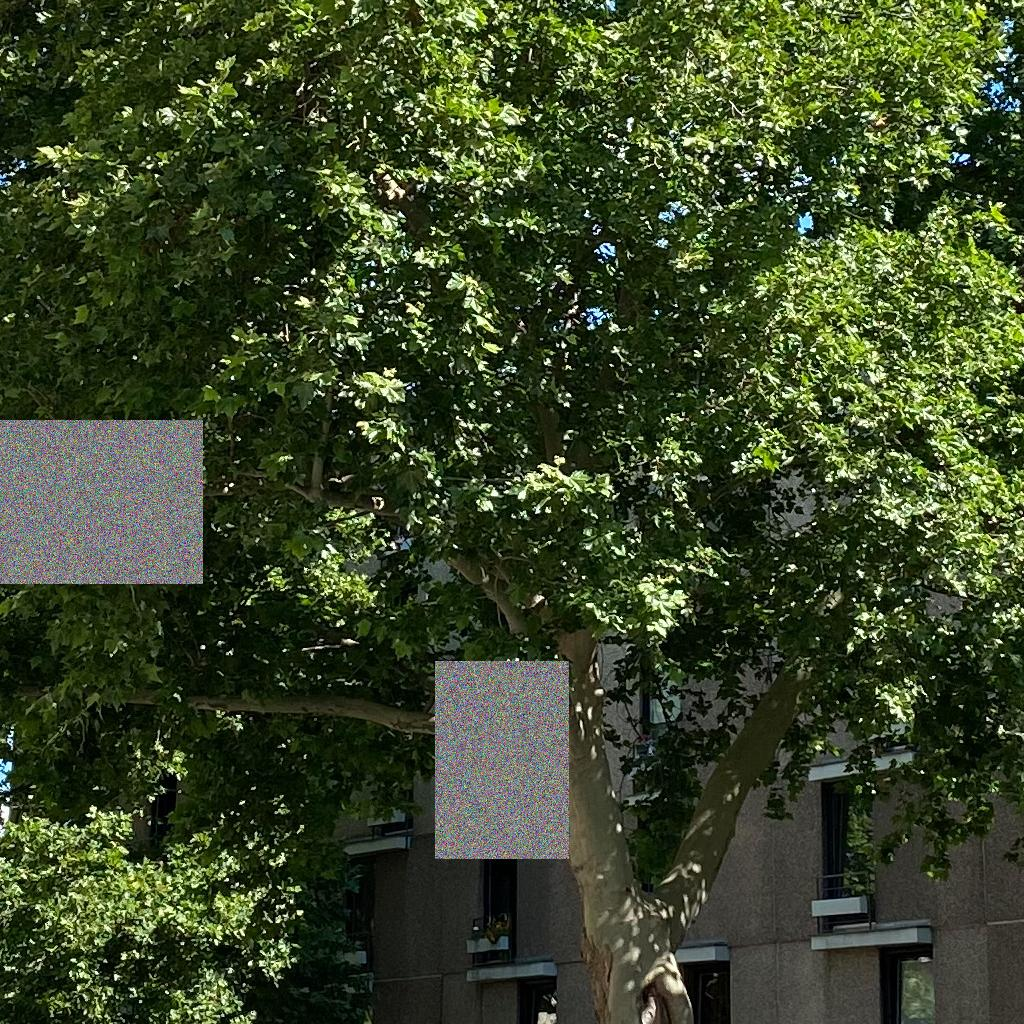tree: (1, 1, 1022, 1023), (1, 803, 365, 1024)
